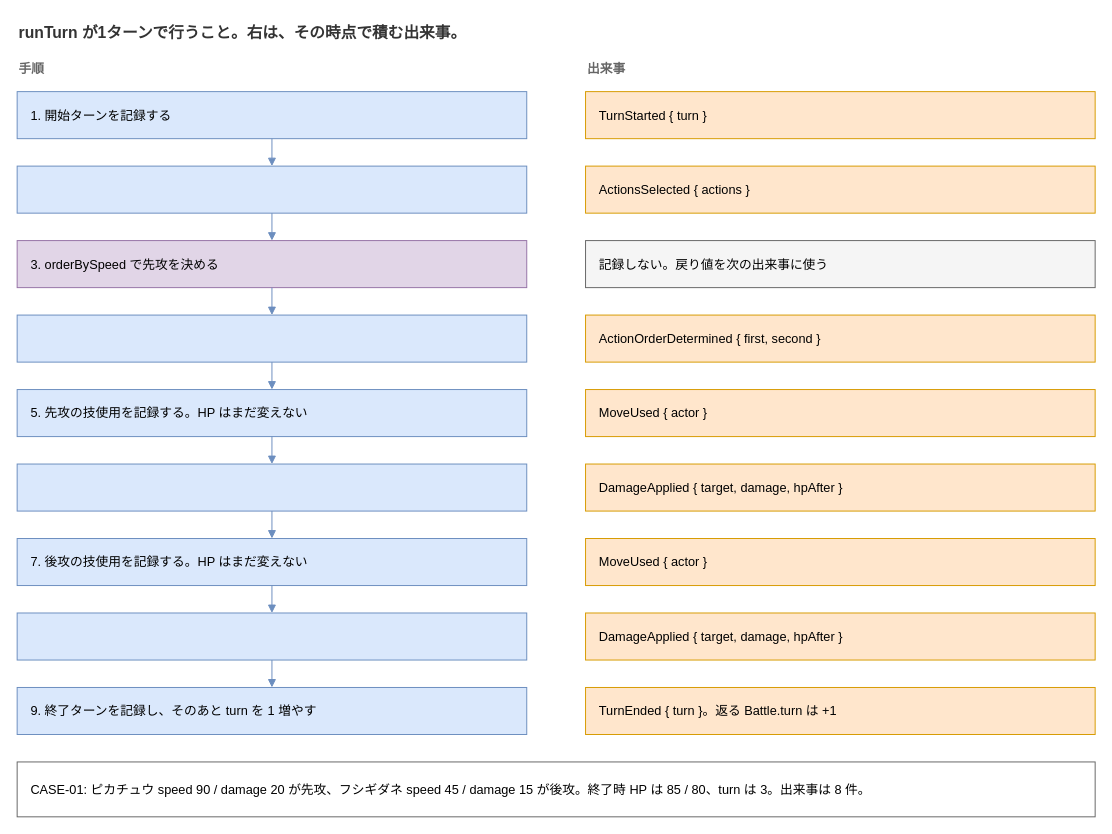
Image size: 1112x834. Some labels were removed from this diagram. Here are the shapes that lost their labels. From the top down, the centre of each, then its label:
point 271,189: 2. 双方の攻撃を受け取る
point 271,338: 4. 先攻と後攻を記録する
point 271,487: 6. 相手の HP から固定ダメージを引く
point 271,636: 8. 相手の HP から固定ダメージを引く
